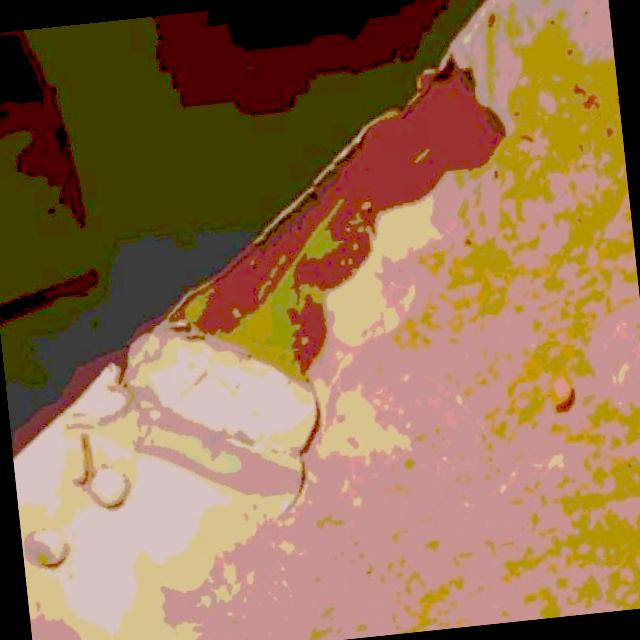crack: (274, 393, 333, 501)
